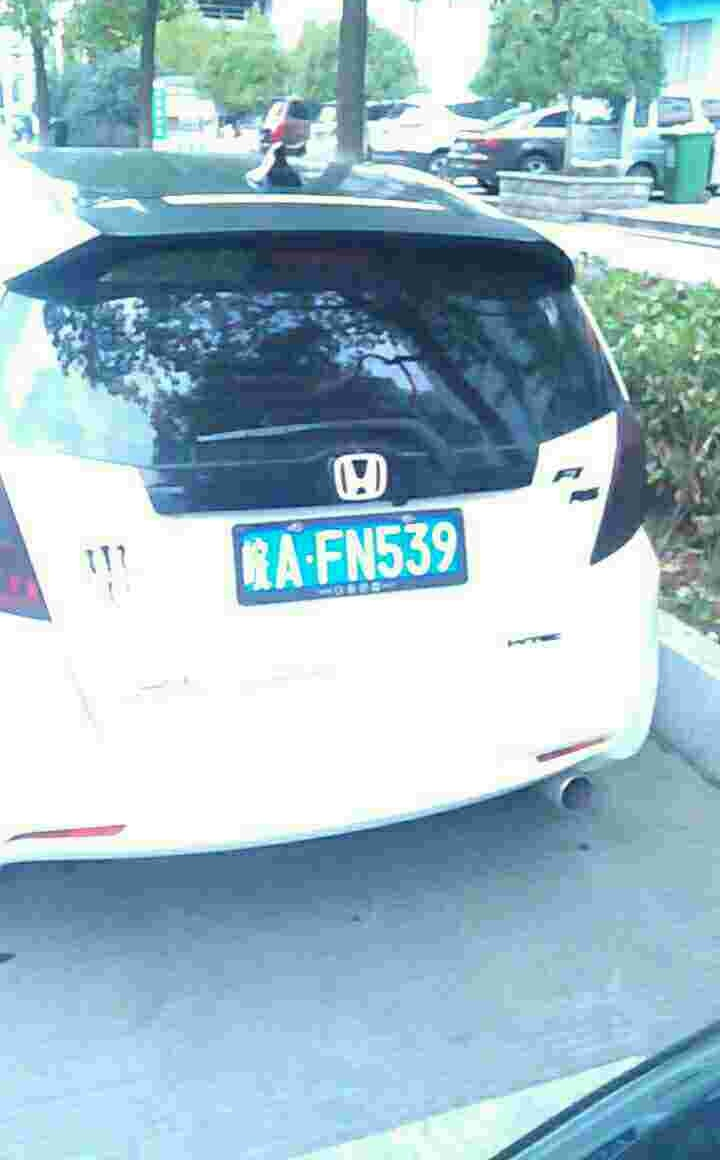car: (231, 519, 474, 593)
